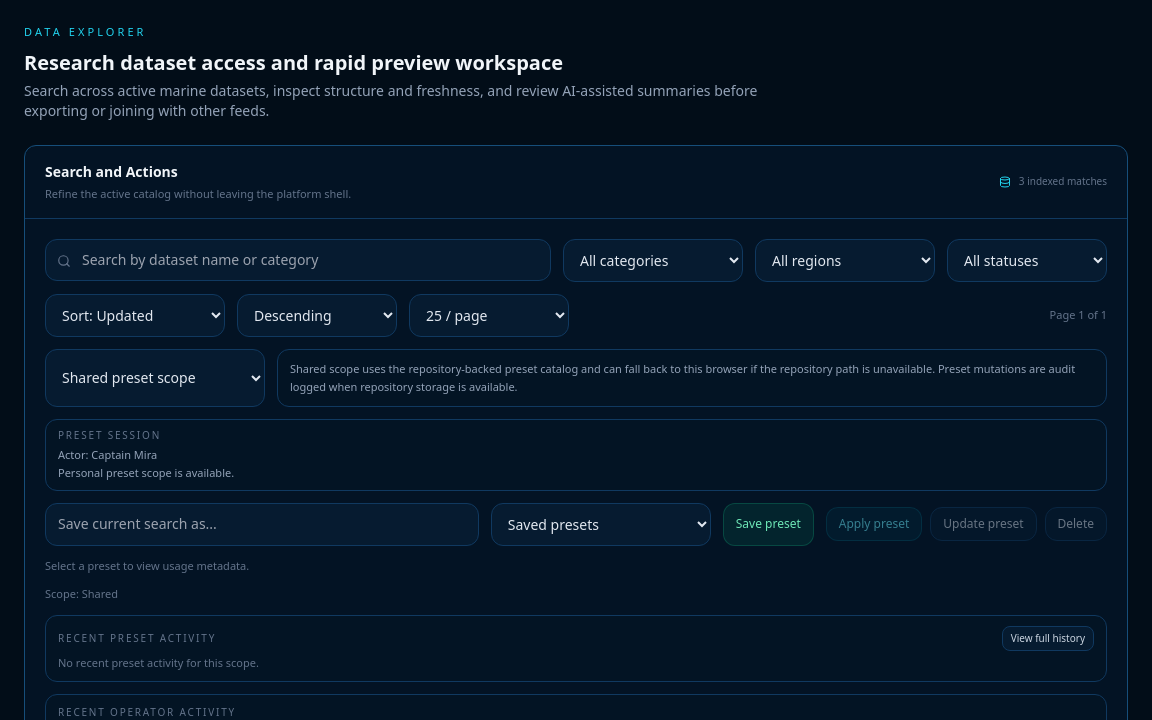
it: applying a preset still works when usage tracking fails
Step 1. Select "Chemistry Live" in the dropdown named "Saved presets" → (601, 524), box [491,503,711,546]
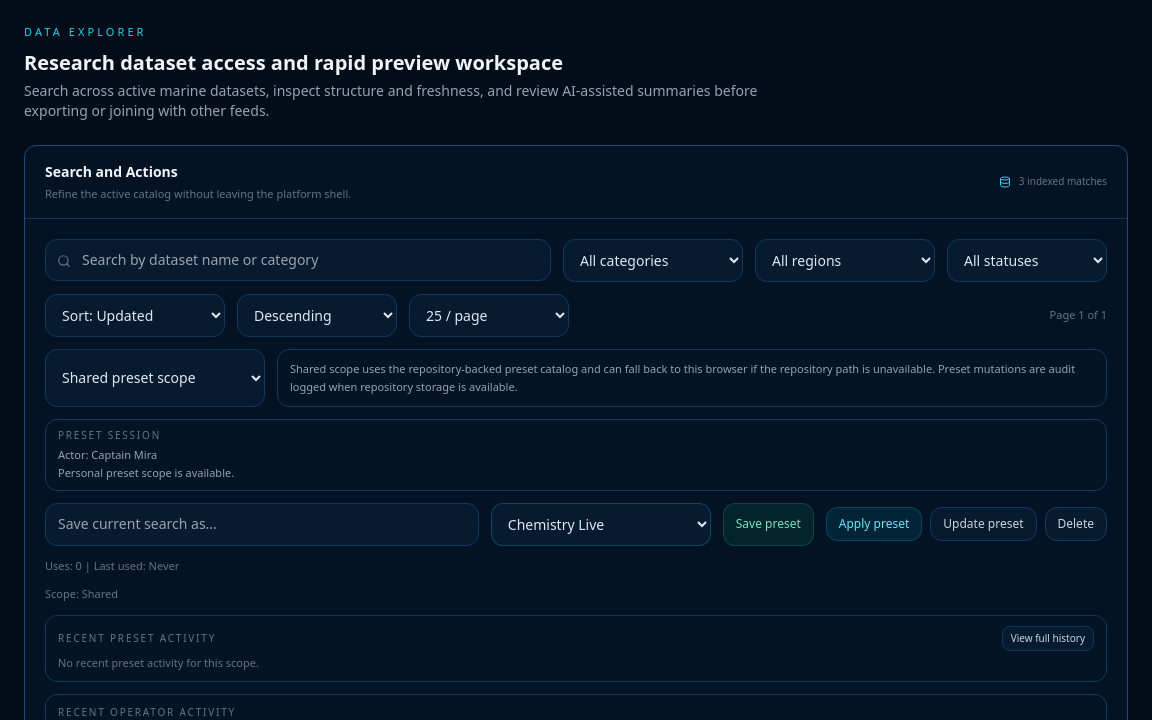
Step 2. Click the button "Apply preset" → (874, 524), box [826,507,922,541]
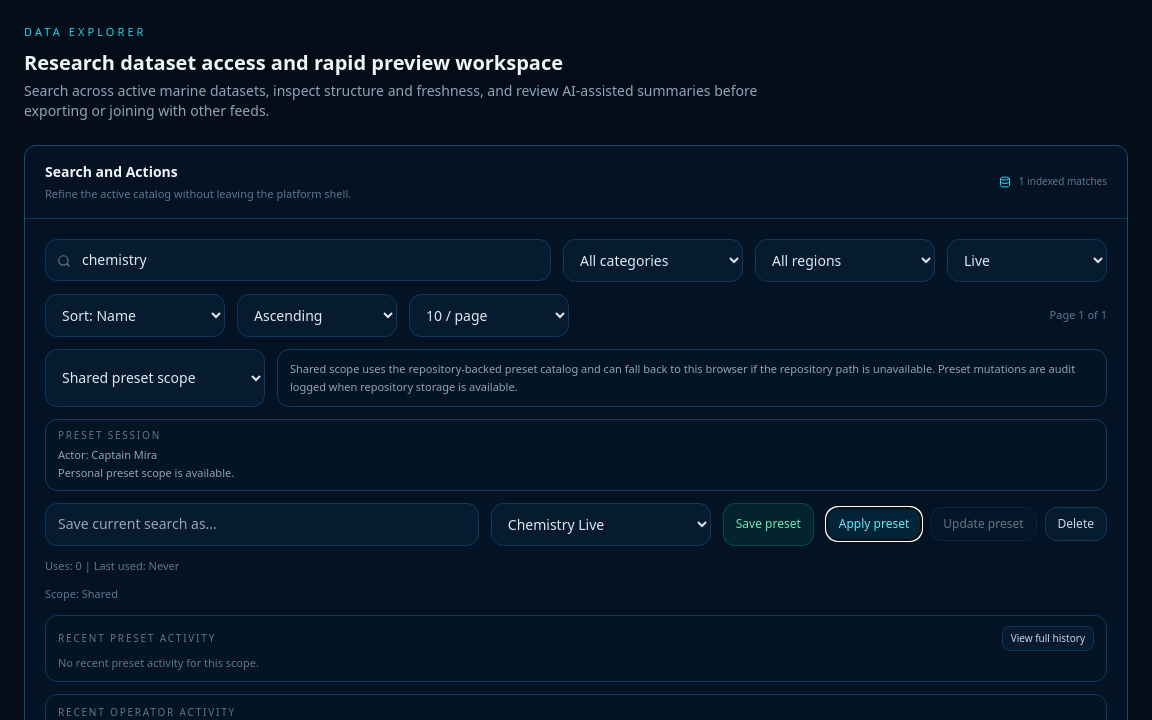
Check: the field named "Dataset search" holds "chemistry", box [45,239,551,281]
Check: the dropdown named "Dataset status filter" shows "Live", box [947,239,1107,282]
